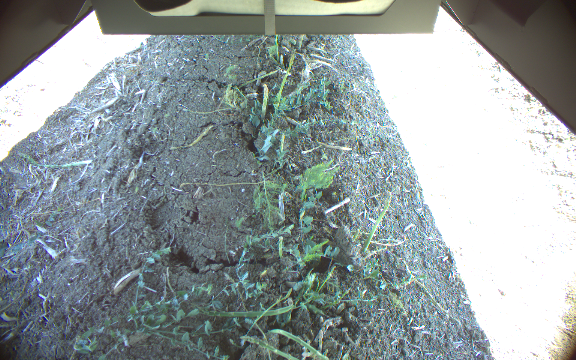aspa: (237, 327, 299, 360), (267, 327, 329, 360), (362, 191, 391, 255), (275, 53, 295, 107), (260, 83, 270, 119), (273, 35, 281, 57), (276, 234, 284, 256)
